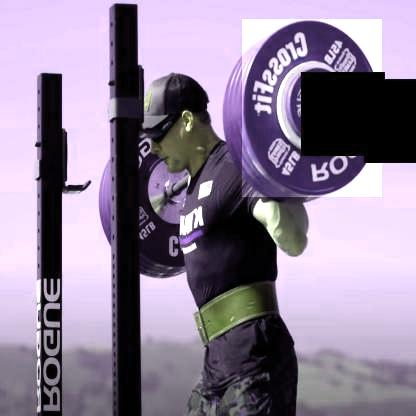barbell: (241, 20, 380, 197)
